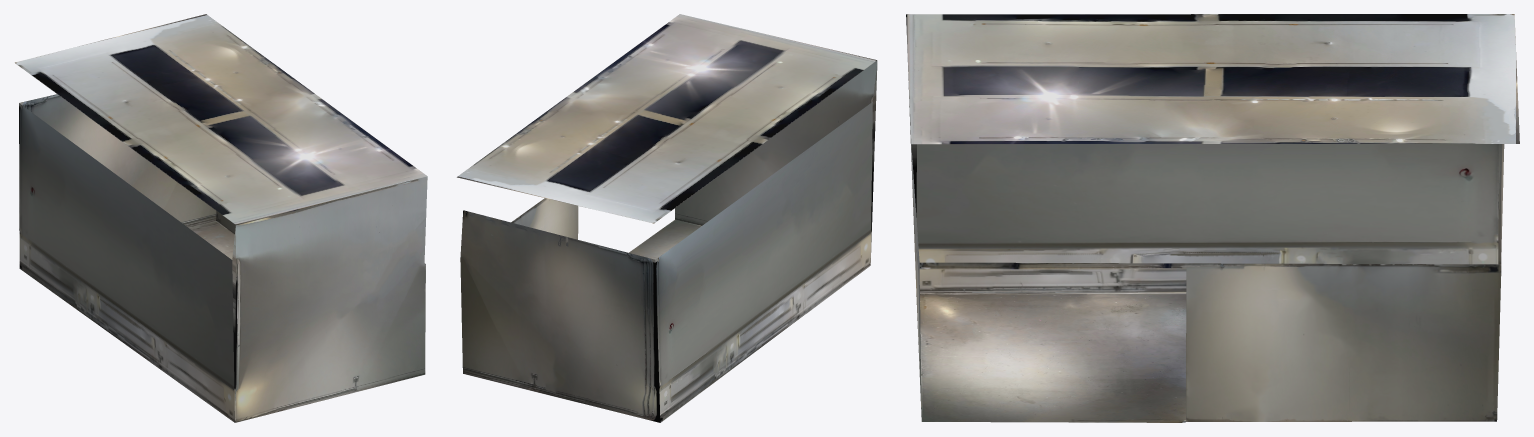
The model's file is well-02LP.fbx.
The picture shows the model from 3 angles, left to right: view 1: azimuth 30°, elevation 25°; view 2: azimuth 150°, elevation 25°; view 3: azimuth 270°, elevation 25°; orthographic projection. The views are drawn at different scales.
Visible parts, largest first — view 1: well-02LP; view 2: well-02LP; view 3: well-02LP.
Part boxes in pixels (x1,y1,x2,y2): well-02LP: [15, 14, 427, 422]; well-02LP: [457, 14, 877, 422]; well-02LP: [906, 14, 1519, 422].
Size of the model in its own units: 542 by 529 by 1063.
1 material, 1 textured.
